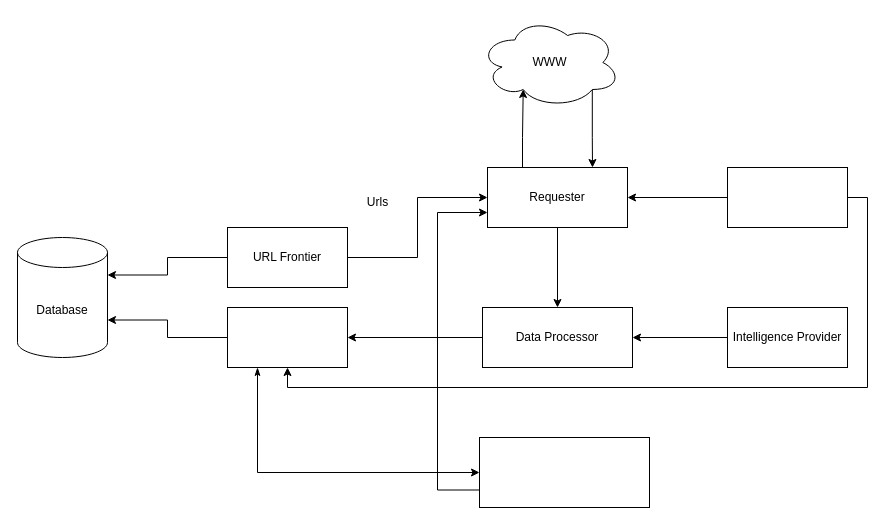
This 893x525 diagram has some shape labels left out. Here are the shapes that lost their labels. From the top down, the centre of each, then its label:
At point (787, 197): "Trigger".
At point (287, 337): "Storage Provider".
At point (564, 472): "Rest APIs".
